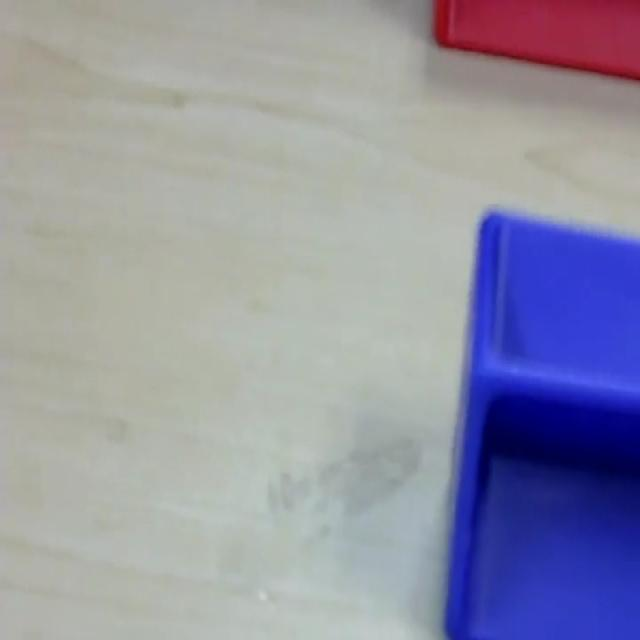blue_block: (442, 203, 638, 636)
red_block: (432, 0, 638, 81)
